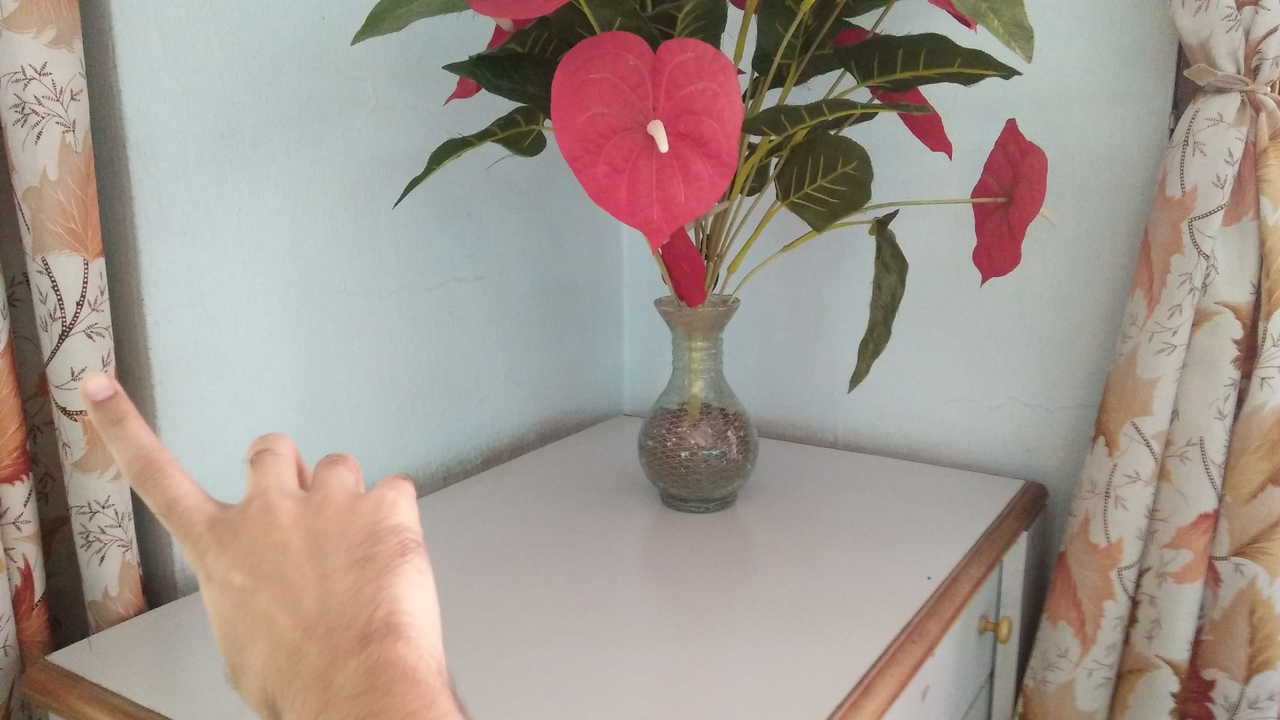fingertip: (72, 368, 124, 424)
